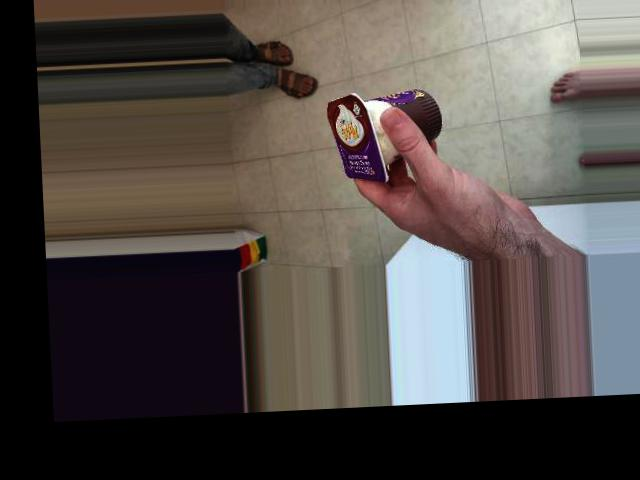milky: (313, 32, 404, 166)
